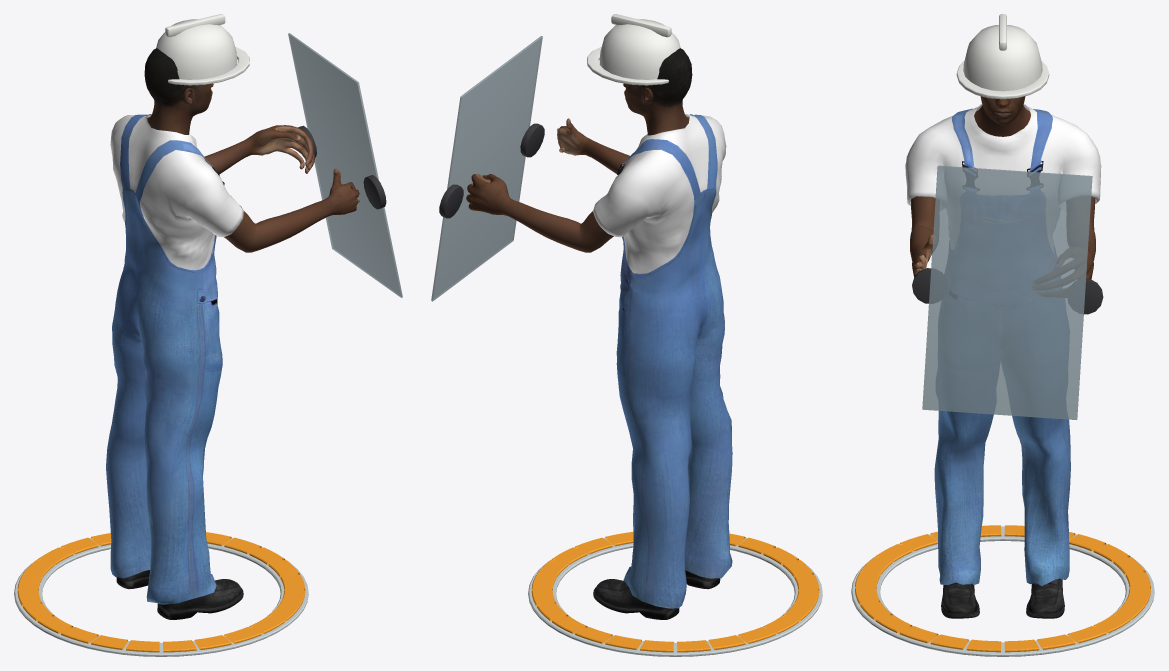
File: MDO-INS-005.glb
3 renders of one model, left to right at view 1: azimuth 30°, elevation 25°; view 2: azimuth 150°, elevation 25°; view 3: azimuth 270°, elevation 25°, orthographic. The views are drawn at different scales.
Parts seen in each view (by area): view 1: MDO-INS-005_pessoa_male_worksuit01, MDO-INS-005_ferD_vidro, MDO-INS-005_pessoa, MDO-INS-005_capacete, MDO-INS-005_anel_fundo, MDO-INS-005_pessoa_shoes04, MDO-INS-005_capacete_aba; view 2: MDO-INS-005_pessoa_male_worksuit01, MDO-INS-005_ferD_vidro, MDO-INS-005_pessoa, MDO-INS-005_capacete, MDO-INS-005_anel_fundo, MDO-INS-005_pessoa_shoes04, MDO-INS-005_capacete_aba, MDO-INS-005_ferD_ventosa1, MDO-INS-005_ferD_ventosa2; view 3: MDO-INS-005_pessoa_male_worksuit01, MDO-INS-005_ferD_vidro, MDO-INS-005_pessoa, MDO-INS-005_capacete, MDO-INS-005_anel_fundo, MDO-INS-005_pessoa_shoes04, MDO-INS-005_capacete_aba, MDO-INS-005_ferD_ventosa2, MDO-INS-005_ferD_ventosa1.
Part boxes in pixels (x1,y1,x2,y2): MDO-INS-005_pessoa_male_worksuit01: (106, 114, 243, 604); MDO-INS-005_ferD_vidro: (288, 33, 402, 297); MDO-INS-005_pessoa: (144, 48, 359, 252); MDO-INS-005_capacete: (156, 19, 237, 79); MDO-INS-005_anel_fundo: (14, 538, 308, 656); MDO-INS-005_pessoa_shoes04: (116, 570, 243, 619); MDO-INS-005_capacete_aba: (168, 46, 249, 85); MDO-INS-005_pessoa_male_worksuit01: (593, 114, 732, 608); MDO-INS-005_ferD_vidro: (431, 36, 542, 301); MDO-INS-005_pessoa: (466, 48, 692, 252); MDO-INS-005_capacete: (599, 19, 680, 79); MDO-INS-005_anel_fundo: (528, 538, 822, 656); MDO-INS-005_pessoa_shoes04: (593, 563, 720, 619); MDO-INS-005_capacete_aba: (587, 47, 668, 85); MDO-INS-005_ferD_ventosa1: (520, 123, 544, 157); MDO-INS-005_ferD_ventosa2: (439, 184, 463, 218); MDO-INS-005_pessoa_male_worksuit01: (905, 104, 1101, 585); MDO-INS-005_ferD_vidro: (922, 165, 1092, 419); MDO-INS-005_pessoa: (910, 96, 1095, 297); MDO-INS-005_capacete: (963, 25, 1042, 91); MDO-INS-005_anel_fundo: (851, 526, 1154, 656); MDO-INS-005_pessoa_shoes04: (941, 578, 1064, 618); MDO-INS-005_capacete_aba: (956, 61, 1049, 99); MDO-INS-005_ferD_ventosa2: (1067, 279, 1103, 314); MDO-INS-005_ferD_ventosa1: (912, 268, 947, 303).
Size of the model in its own units: 1.11 by 1.79 by 0.84.
Materials: 10 (5 with a texture image).
